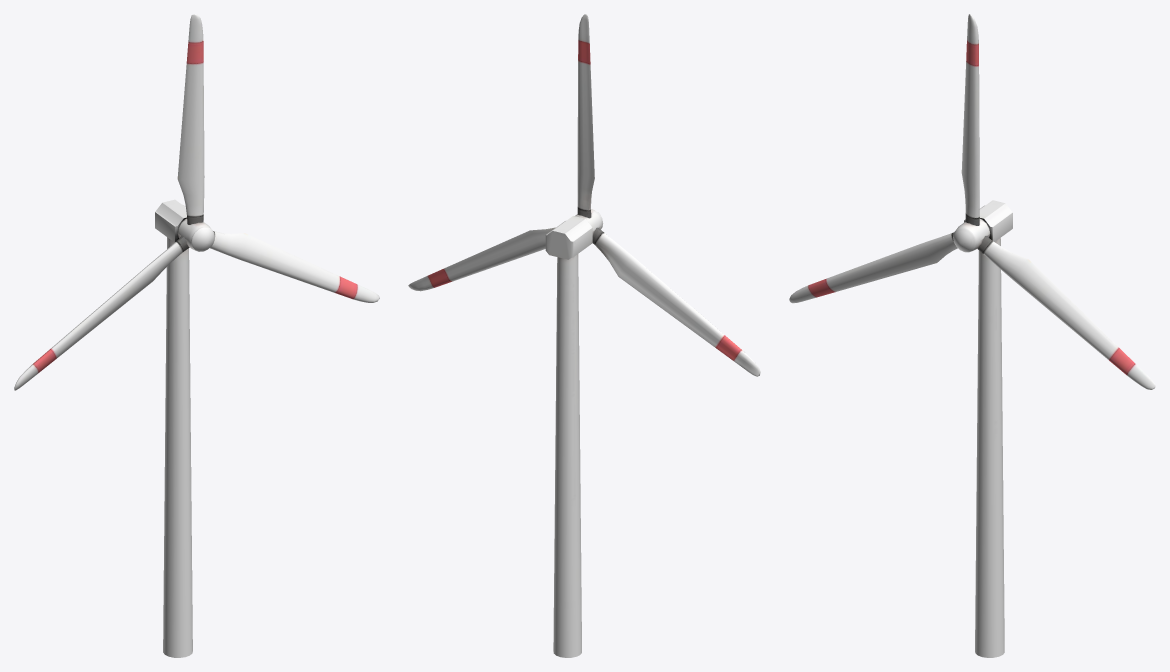
Rendered from turbina.glb.
The picture shows the model from 3 angles, left to right: view 1: azimuth 30°, elevation 25°; view 2: azimuth 150°, elevation 25°; view 3: azimuth 330°, elevation 25°; orthographic projection. The views are drawn at different scales.
Parts seen in each view (by area): view 1: Windturbine Support_0, Windturbine Blades_1; view 2: Windturbine Support_0, Windturbine Blades_1; view 3: Windturbine Blades_1, Windturbine Support_0.
Part boxes in pixels (x1,y1,x2,y2): Windturbine Support_0: (155,199,203,657); Windturbine Blades_1: (14,14,379,390); Windturbine Support_0: (545,216,592,657); Windturbine Blades_1: (408,14,760,376); Windturbine Blades_1: (789,14,1155,389); Windturbine Support_0: (964,200,1012,657).
Bounding box in the file's own units: 11.69 × 19.91 × 2.13.
Materials: 1 (1 with a texture image).
